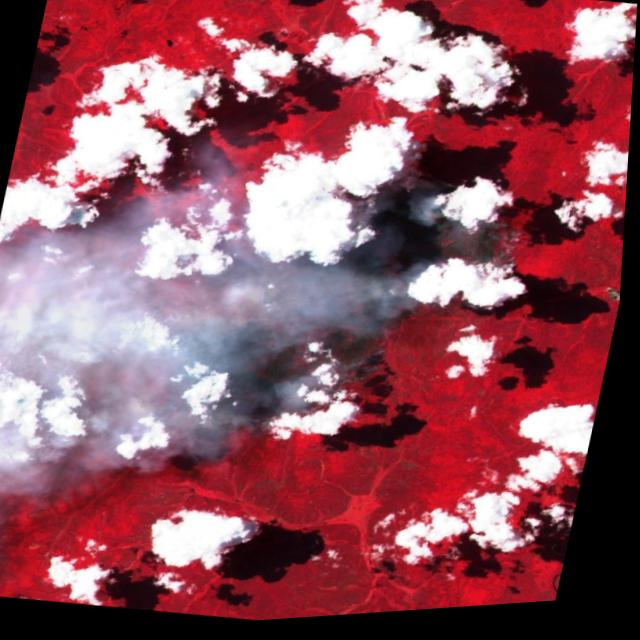fire: (123, 133, 545, 501)
